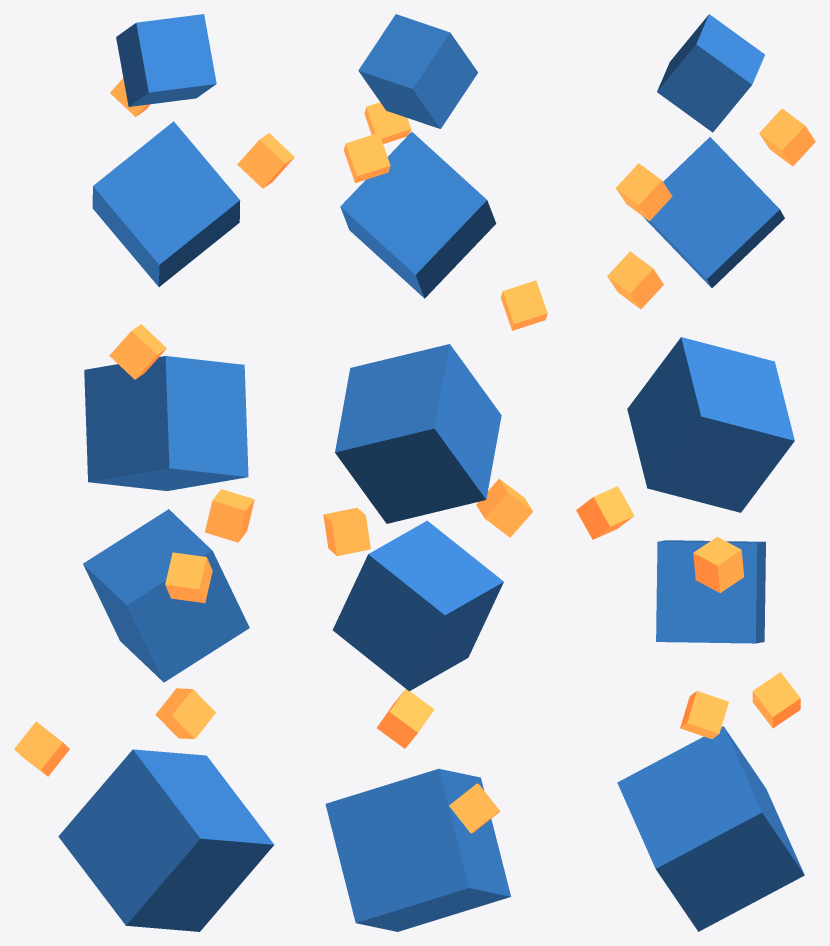
3 views of the same model, side by side, from view 1: azimuth 30°, elevation 25°; view 2: azimuth 150°, elevation 25°; view 3: azimuth 270°, elevation 25° (orthographic). The views are drawn at different scales.
Parts seen in each view (by area): view 1: Cube; view 2: Cube; view 3: Cube.
Part boxes in pixels (box(x1,y1,x2,y2)): Cube: box(14, 14, 294, 931); Cube: box(323, 14, 547, 931); Cube: box(576, 14, 815, 931).
Bounding box in the file's own units: 3.85 × 16.24 × 3.97.
